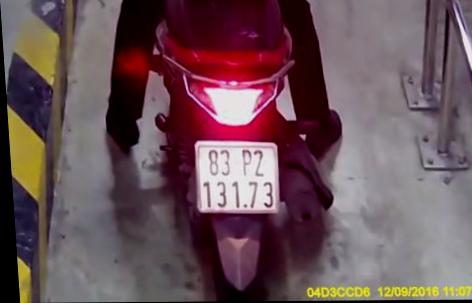License_Plate: (188, 133, 289, 219)
